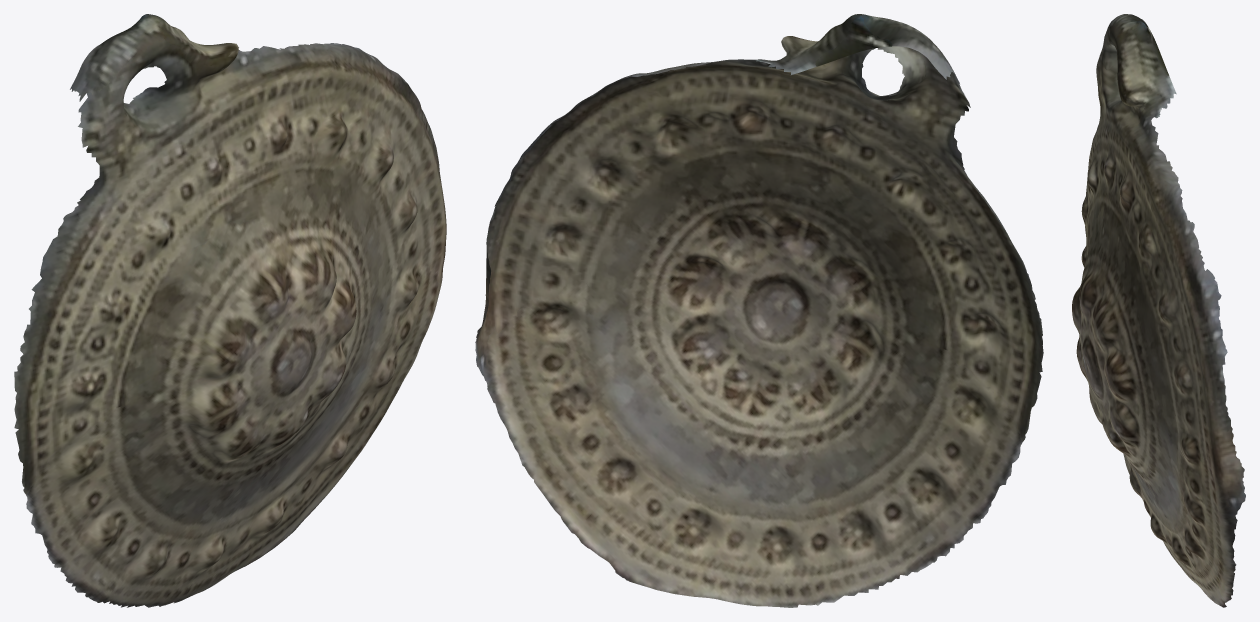
Rendered from buckle.glb.
The picture shows the model from 3 angles, left to right: view 1: azimuth 30°, elevation 25°; view 2: azimuth 150°, elevation 25°; view 3: azimuth 270°, elevation 25°; orthographic projection. The views are drawn at different scales.
Visible parts, largest first — view 1: Object_2; view 2: Object_2; view 3: Object_2.
Boxes of the visible parts, x1=… form: Object_2: x1=14, y1=14, x2=446, y2=607; Object_2: x1=475, y1=14, x2=1043, y2=607; Object_2: x1=1072, y1=14, x2=1245, y2=607.
Size of the model in its own units: 72.42 by 84.44 by 25.66.
1 material, 1 textured.
